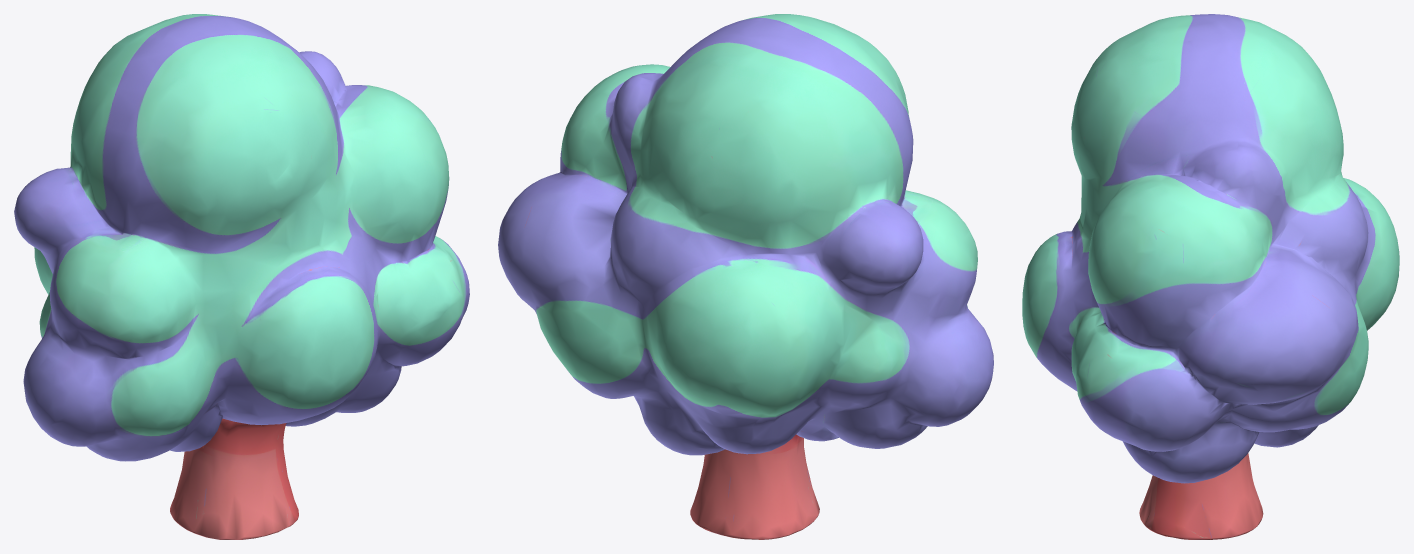
Rendered from static.glb.
The picture shows the model from 3 angles, left to right: view 1: azimuth 30°, elevation 25°; view 2: azimuth 150°, elevation 25°; view 3: azimuth 270°, elevation 25°; orthographic projection. The views are drawn at different scales.
Parts seen in each view (by area): view 1: Mesh_0; view 2: Mesh_0; view 3: Mesh_0.
Part boxes in pixels (box(x1,y1,x2,y2)): Mesh_0: box(14, 14, 469, 539); Mesh_0: box(498, 14, 993, 539); Mesh_0: box(1022, 14, 1399, 539).
Size of the model in its own units: 1.74 by 1.9 by 1.36.
1 material, 1 textured.
